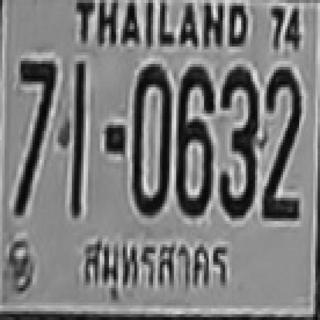N00: (131, 64, 170, 215)
N02: (264, 65, 303, 222)
N03: (218, 65, 258, 217)
N06: (175, 66, 212, 214)
N07: (18, 58, 55, 216)
P58: (76, 234, 228, 307)
